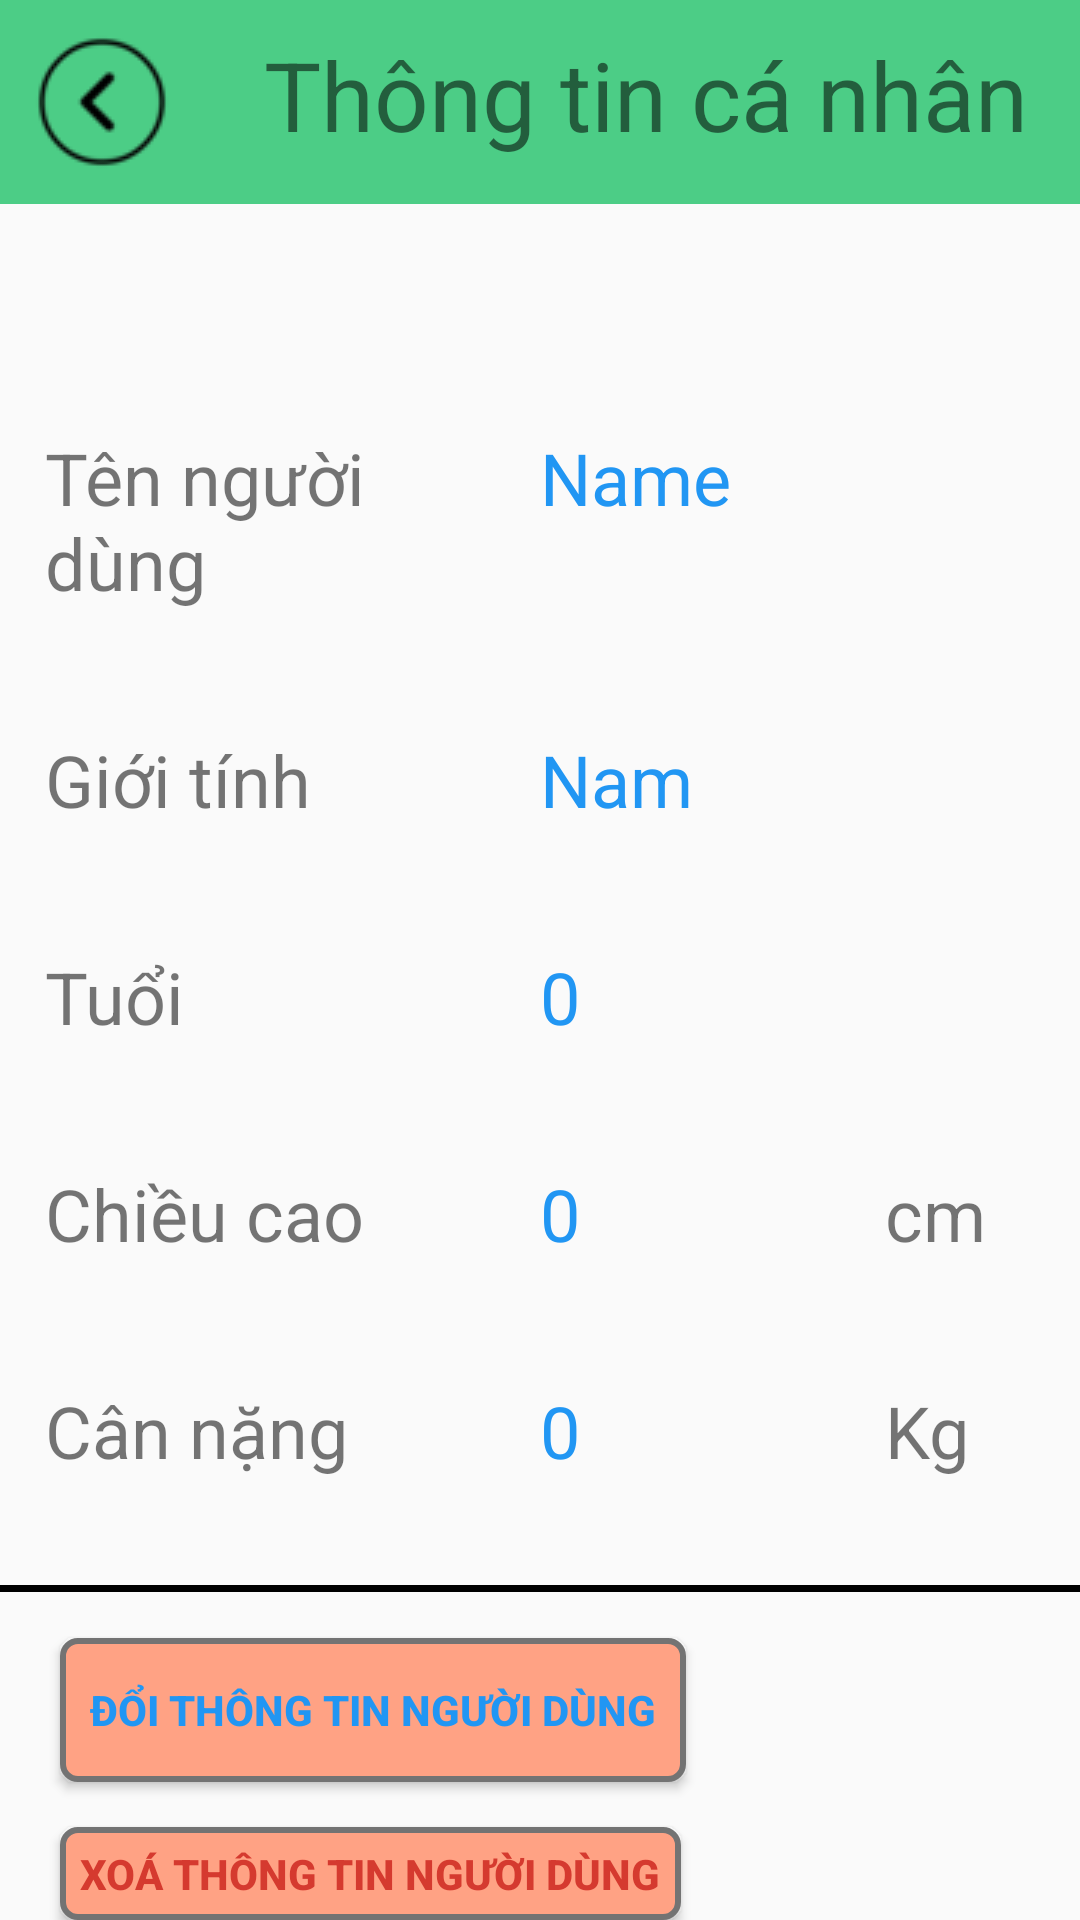

Named icons in this screenshot (1080px×1920px) and their centers, (x=x, y=y):
back: (x=102, y=102)
